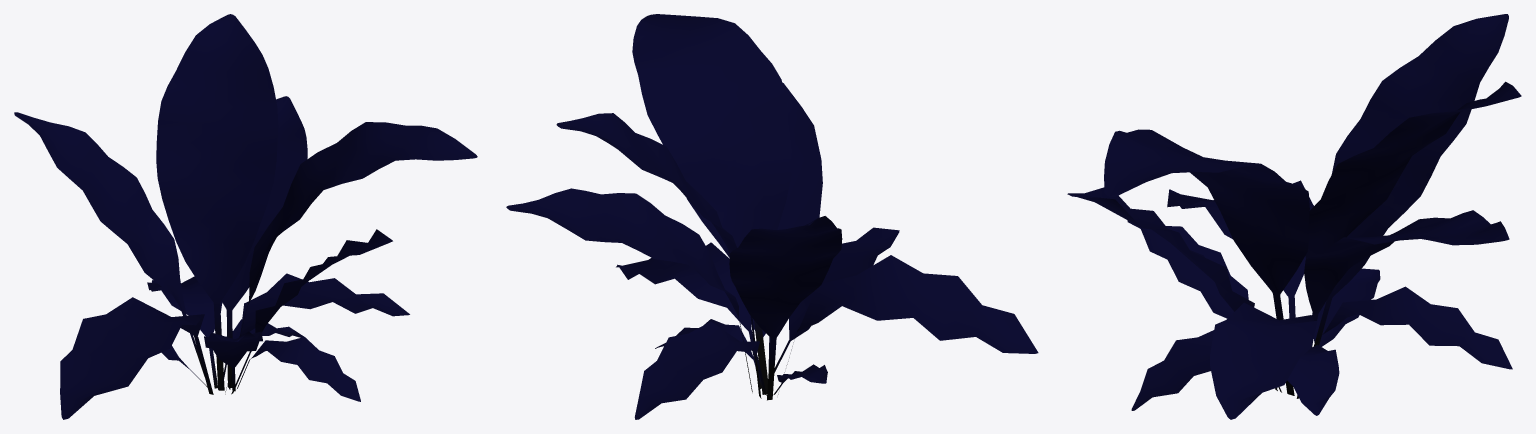
Rendered from SM_Foliage_PalmPlantB_04.fbx.
3 views of the same model, side by side, from view 1: azimuth 30°, elevation 25°; view 2: azimuth 150°, elevation 25°; view 3: azimuth 270°, elevation 25° (orthographic). The views are drawn at different scales.
Parts seen in each view (by area): view 1: SM_Foliage_PalmPlantB_04; view 2: SM_Foliage_PalmPlantB_04; view 3: SM_Foliage_PalmPlantB_04.
Part boxes in pixels (x1,y1,x2,y2): SM_Foliage_PalmPlantB_04: (14,14,477,419); SM_Foliage_PalmPlantB_04: (506,14,1038,419); SM_Foliage_PalmPlantB_04: (1067,14,1521,419).
Size of the model in its own units: 238 by 197 by 171.
